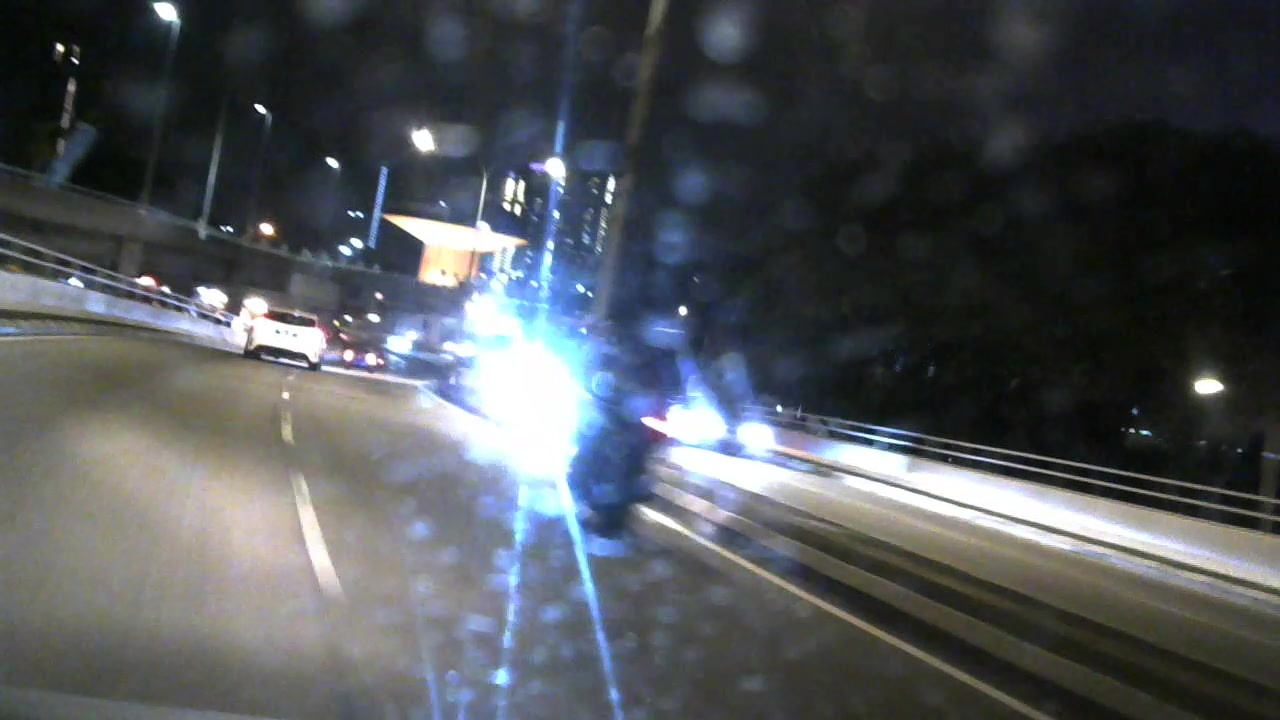Car: (239, 306, 330, 371), (337, 340, 383, 374)
